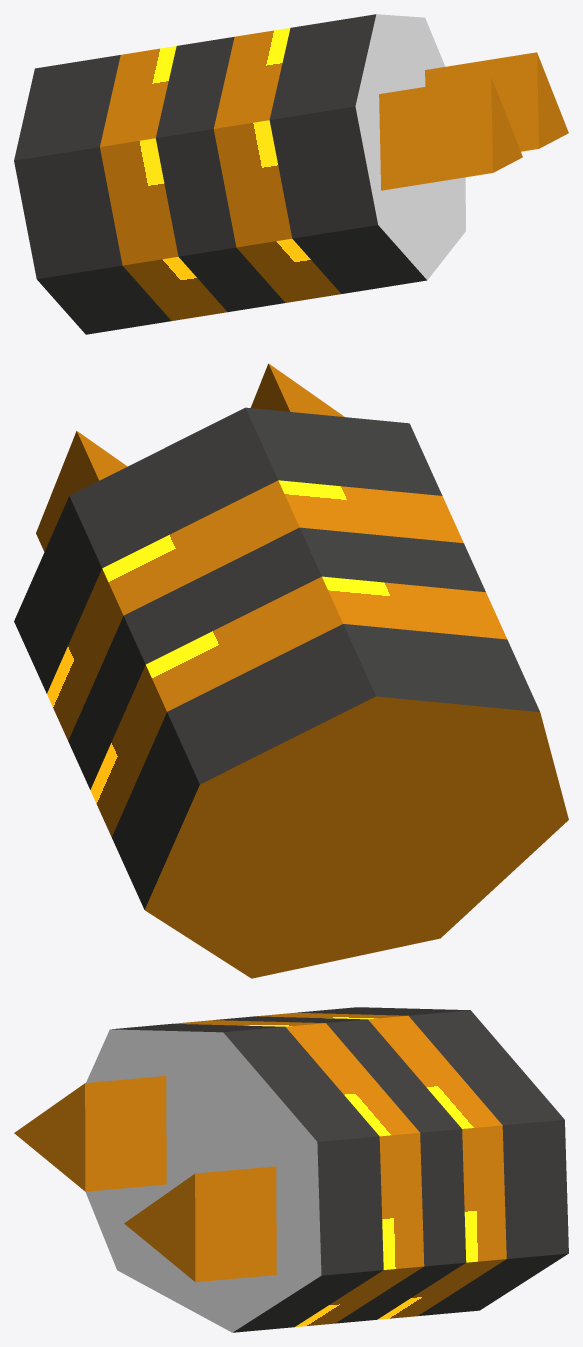
The model's file is capacitor.glb.
3 renders of one model, top to bottom at view 1: azimuth 30°, elevation 25°; view 2: azimuth 150°, elevation 25°; view 3: azimuth 270°, elevation 25°, orthographic. The views are drawn at different scales.
Parts seen in each view (by area): view 1: Cylinder.021; view 2: Cylinder.021; view 3: Cylinder.021.
Boxes of the visible parts, box(x1,y1,x2,y2) form: Cylinder.021: box(14, 14, 568, 334); Cylinder.021: box(14, 363, 568, 978); Cylinder.021: box(14, 1007, 568, 1332).
Bounding box in the file's own units: 5 × 3.31 × 4.85.
Materials: 1 (1 with a texture image).
